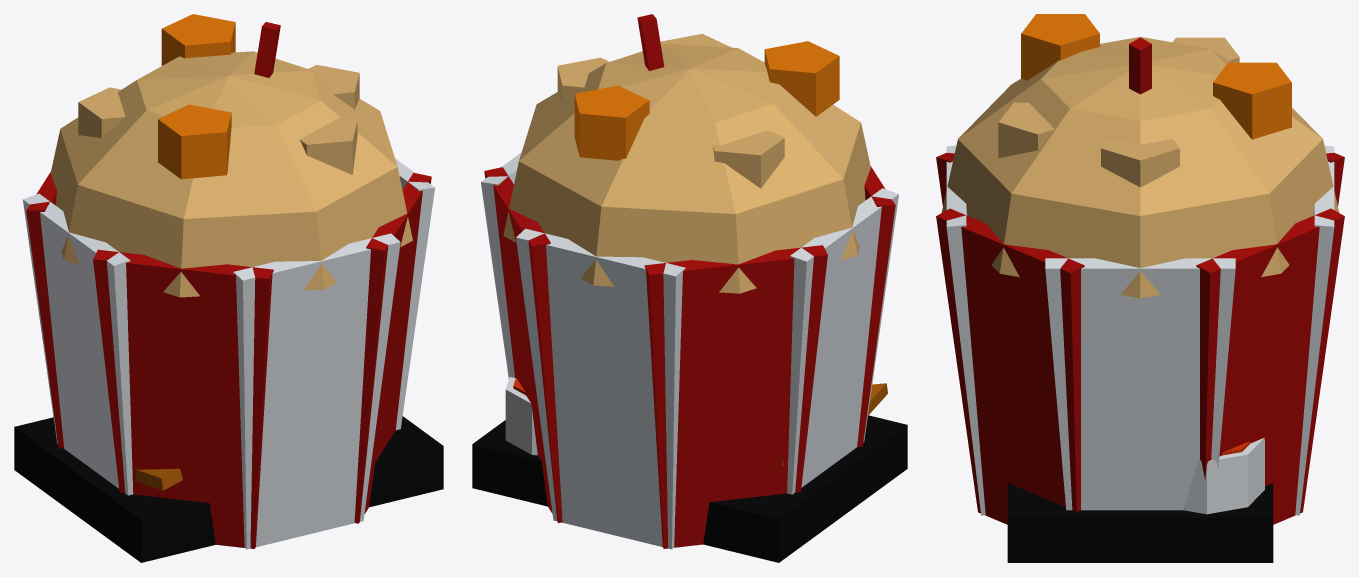
Rendered from cinema_kit.glb.
The picture shows the model from 3 angles, left to right: view 1: azimuth 30°, elevation 25°; view 2: azimuth 150°, elevation 25°; view 3: azimuth 270°, elevation 25°; orthographic projection. The views are drawn at different scales.
Parts seen in each view (by area): view 1: SM_CN_Popcorn, SM_CN_Nachos, SM_CN_Drink; view 2: SM_CN_Popcorn, SM_CN_Nachos, SM_CN_Drink; view 3: SM_CN_Popcorn, SM_CN_Nachos, SM_CN_Drink.
Boxes of the visible parts, x1,y1,x2,y2 form: SM_CN_Popcorn: [23, 14, 434, 549]; SM_CN_Nachos: [14, 416, 443, 562]; SM_CN_Drink: [254, 22, 280, 77]; SM_CN_Popcorn: [481, 33, 898, 549]; SM_CN_Nachos: [472, 377, 907, 562]; SM_CN_Drink: [637, 14, 664, 70]; SM_CN_Popcorn: [936, 14, 1344, 524]; SM_CN_Nachos: [1007, 437, 1273, 562]; SM_CN_Drink: [1129, 37, 1151, 94].
Size of the model in its own units: 0.2464 by 0.3094 by 0.2464.
Materials: 4 (4 with a texture image).
